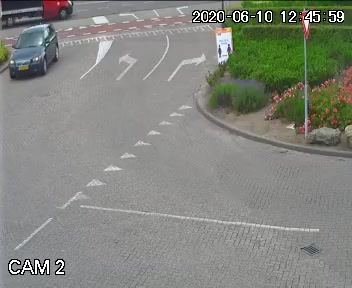car: (11, 22, 70, 88)
